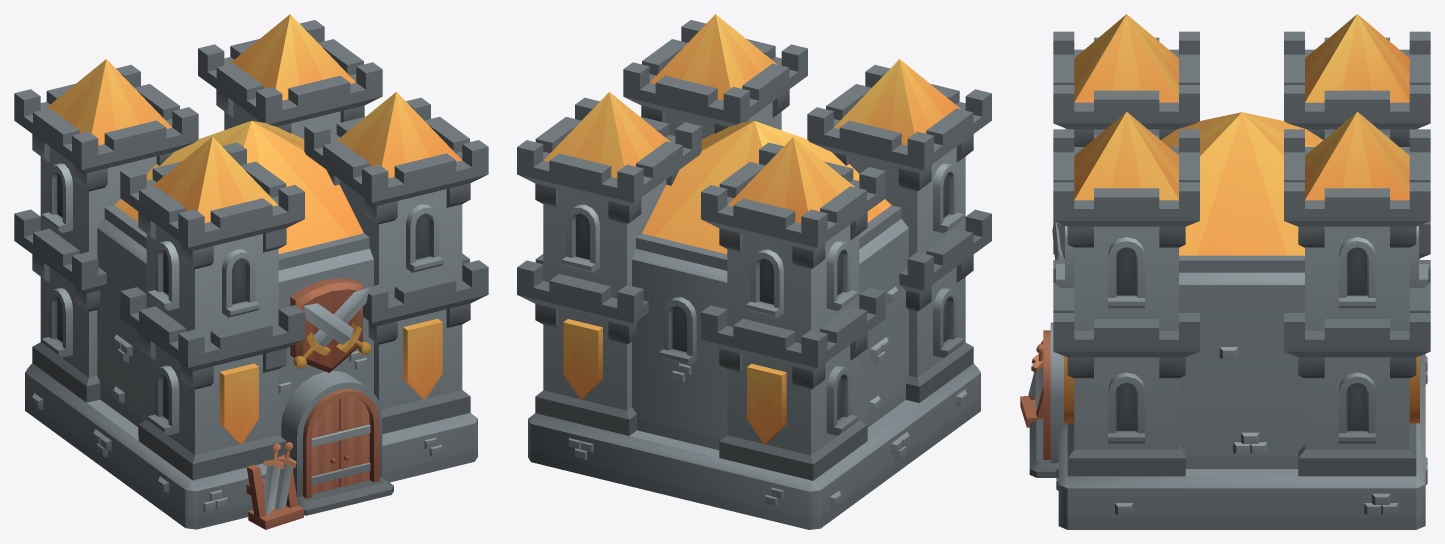
The model's file is building_barracks_yellow.glb.
3 views of the same model, side by side, from view 1: azimuth 30°, elevation 25°; view 2: azimuth 150°, elevation 25°; view 3: azimuth 270°, elevation 25° (orthographic). The views are drawn at different scales.
Parts seen in each view (by area): view 1: building_barracks_yellow; view 2: building_barracks_yellow; view 3: building_barracks_yellow.
Part boxes in pixels (x1=…): building_barracks_yellow: x1=14, y1=14, x2=488, y2=529; building_barracks_yellow: x1=517, y1=14, x2=991, y2=529; building_barracks_yellow: x1=1020, y1=14, x2=1430, y2=529.
Size of the model in its own units: 1.44 by 1.64 by 1.57.
1 material, 1 textured.
